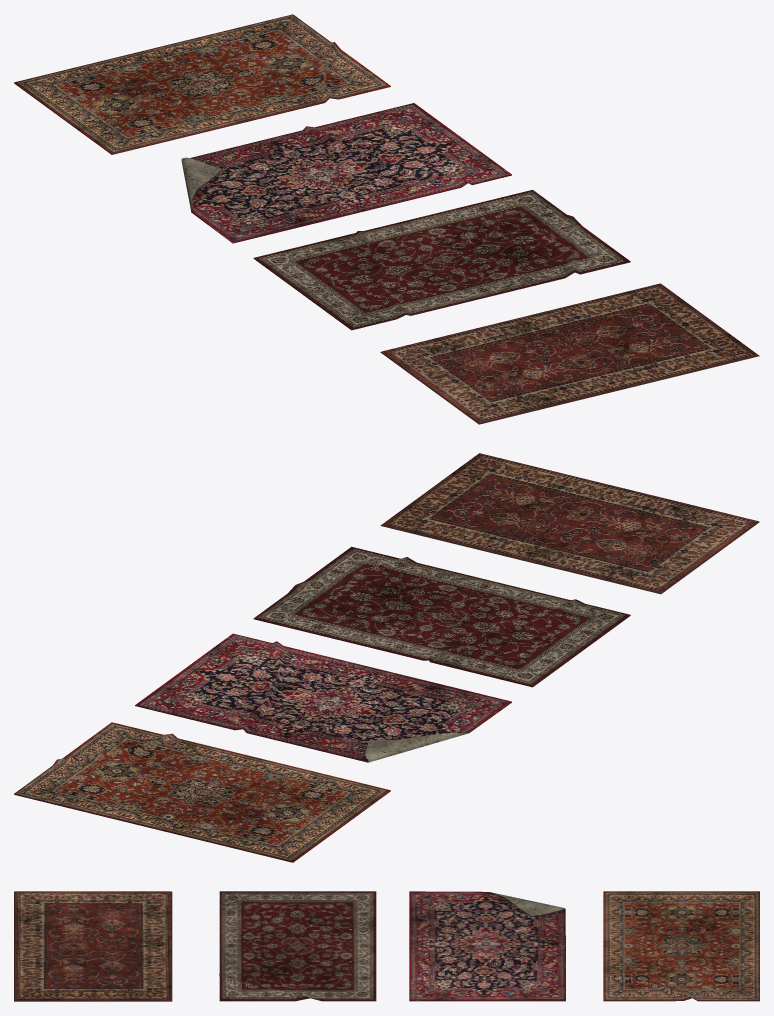
The picture shows the model from 3 angles, top to bottom: view 1: azimuth 30°, elevation 25°; view 2: azimuth 150°, elevation 25°; view 3: azimuth 270°, elevation 25°; orthographic projection. The views are drawn at different scales.
Parts seen in each view (by area): view 1: SM_Carpet_01, SM_Carpet_04, SM_Carpet_02, SM_Carpet_03; view 2: SM_Carpet_01, SM_Carpet_02, SM_Carpet_04, SM_Carpet_03; view 3: SM_Carpet_01, SM_Carpet_02, SM_Carpet_04, SM_Carpet_03.
Boxes of the visible parts, box(x1,y1,x2,y2) form: SM_Carpet_01: box(380, 283, 759, 424); SM_Carpet_04: box(14, 14, 390, 154); SM_Carpet_02: box(253, 190, 630, 330); SM_Carpet_03: box(181, 103, 511, 243); SM_Carpet_01: box(380, 453, 759, 594); SM_Carpet_02: box(253, 546, 630, 687); SM_Carpet_04: box(14, 722, 390, 862); SM_Carpet_03: box(135, 633, 511, 762); SM_Carpet_01: box(14, 891, 172, 1001); SM_Carpet_02: box(219, 891, 376, 1001); SM_Carpet_04: box(603, 891, 759, 1001); SM_Carpet_03: box(409, 891, 565, 1001).
Bounding box in the file's own units: 894 × 15.73 × 2569.
2 materials, 2 textured.
